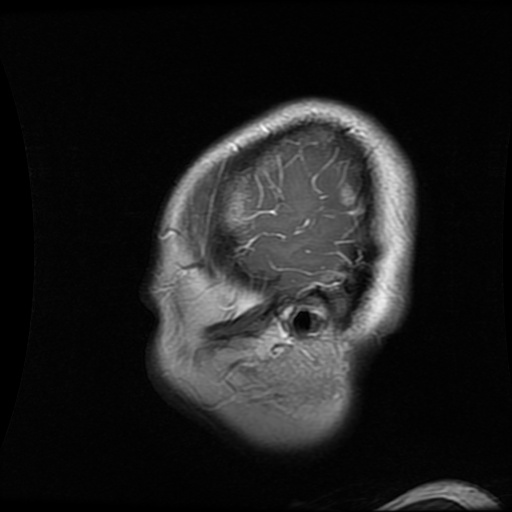glioma: (338, 180, 354, 205)
